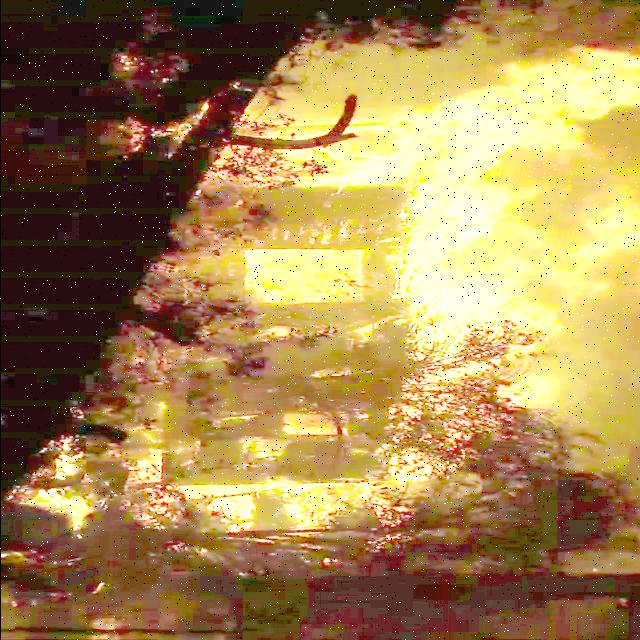api: (323, 41, 640, 495), (241, 240, 371, 318), (277, 466, 379, 548), (23, 434, 98, 519)
